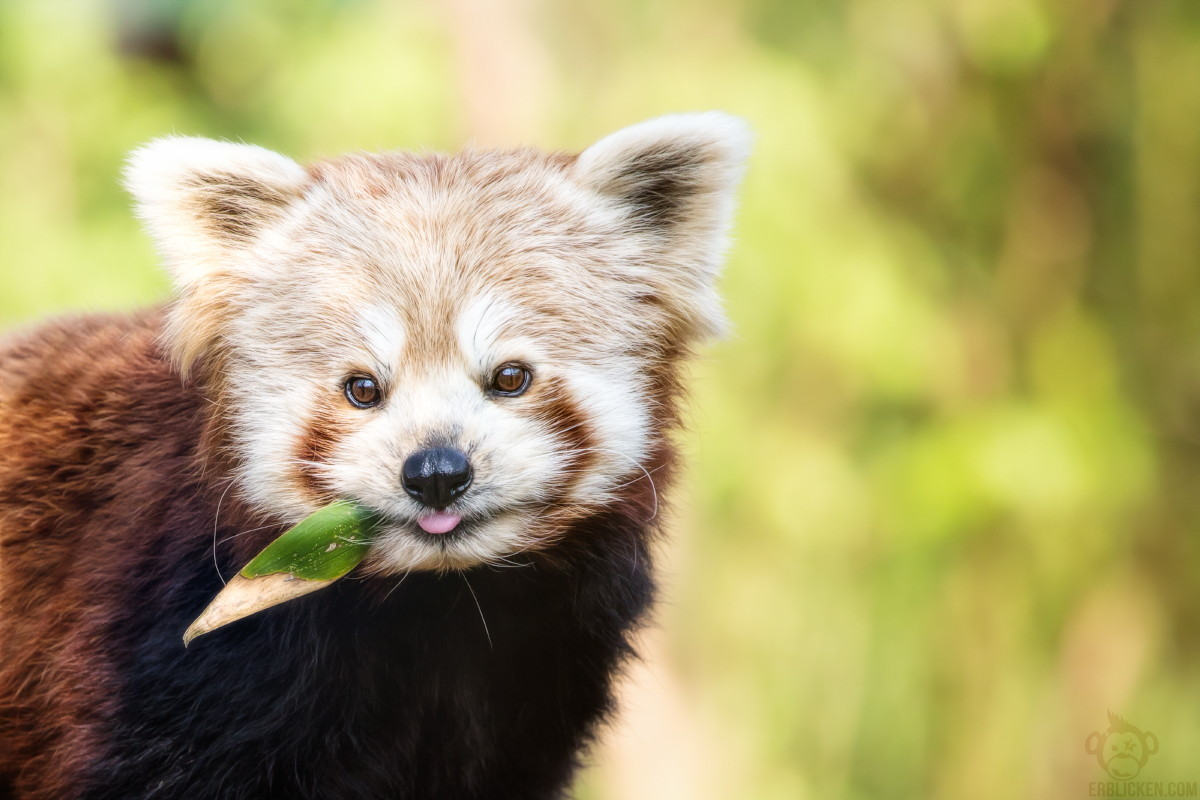red_panda: (1, 111, 760, 795)
